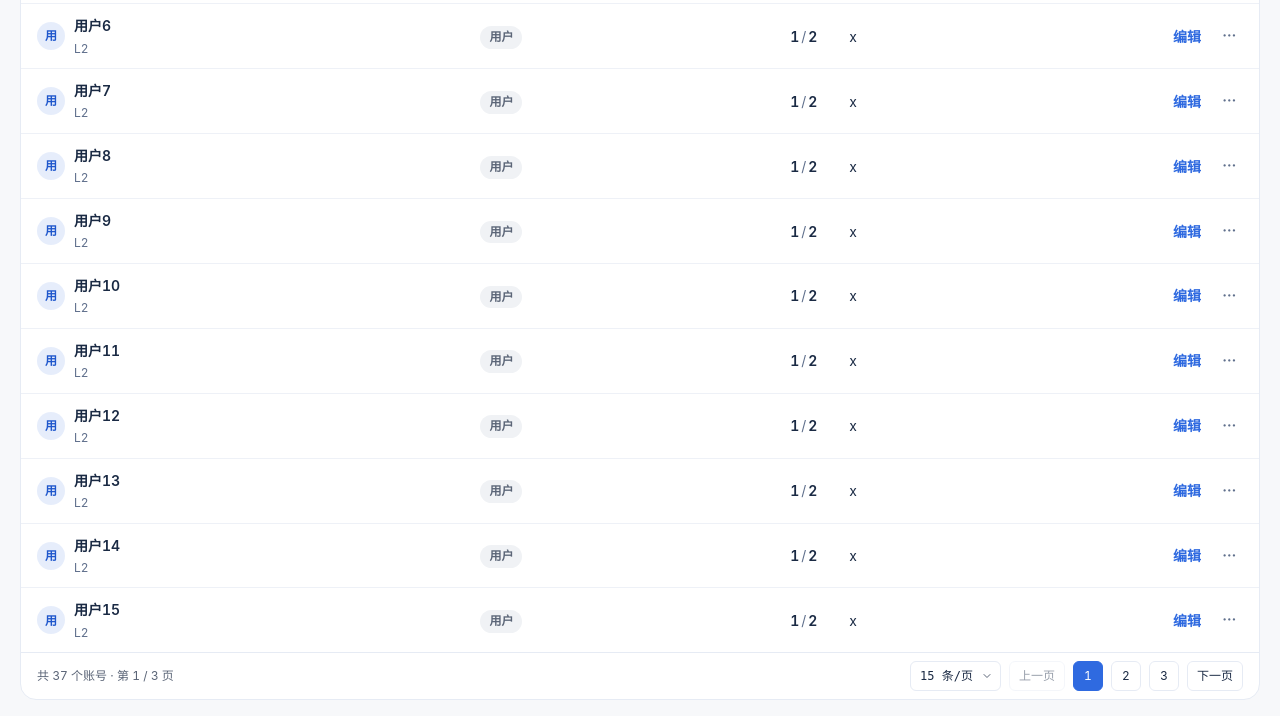
it: Users 客户端分页（mk-pagination） › 关键词筛选：结果缩到 1 页且页码回 1
This screenshot has width=1280, height=716.
(page scrolled)
Click the button "下一页" at (1215, 676), box [1187,661,1243,691]
(page scrolled)
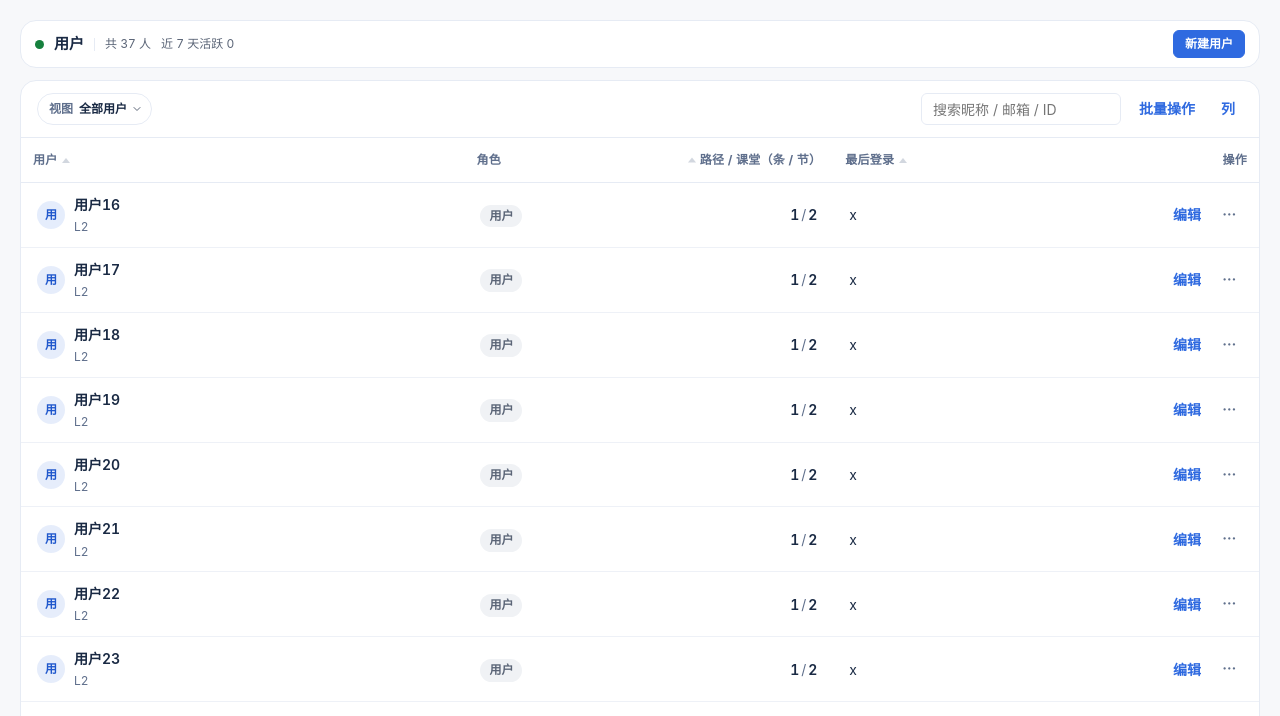
Type "用户36" into the field with class "mk-filter__input" at (1021, 109), box [921,93,1121,125]
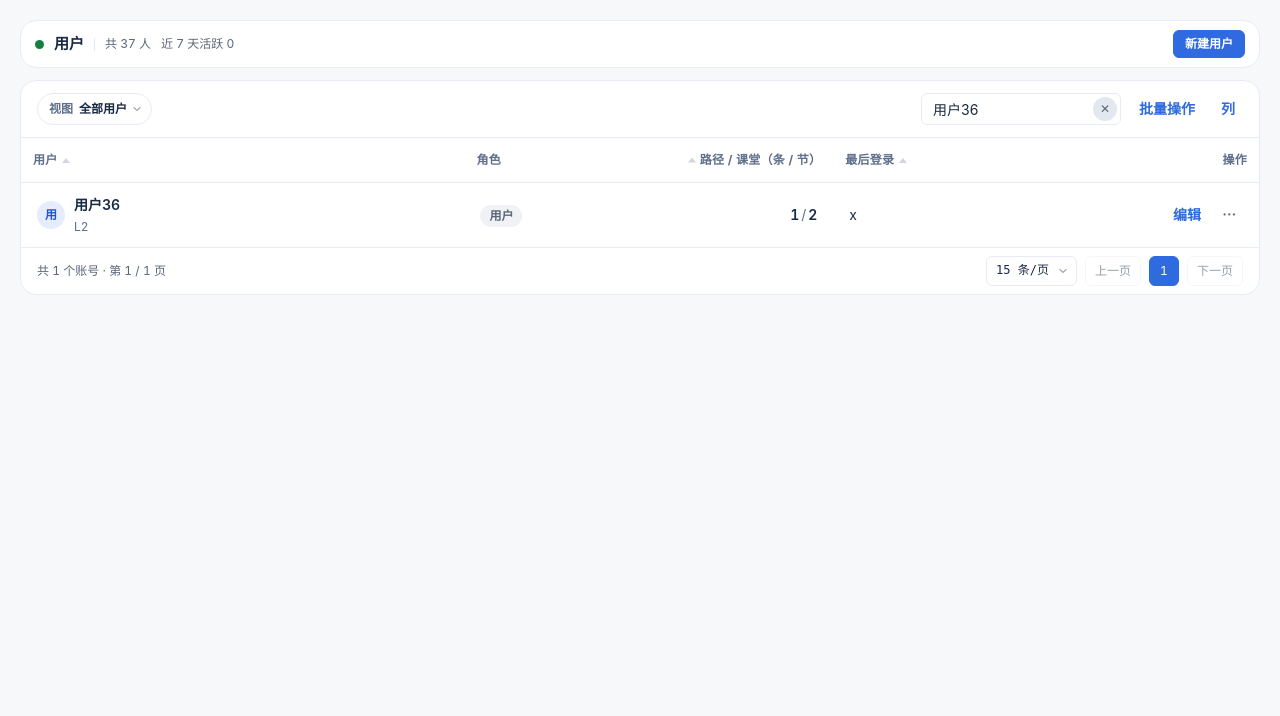
expect the text "第 1 / 1 页" is shown: met, box [37,263,166,278]
expect the text "用户36" is shown: met, box [74,196,120,213]
